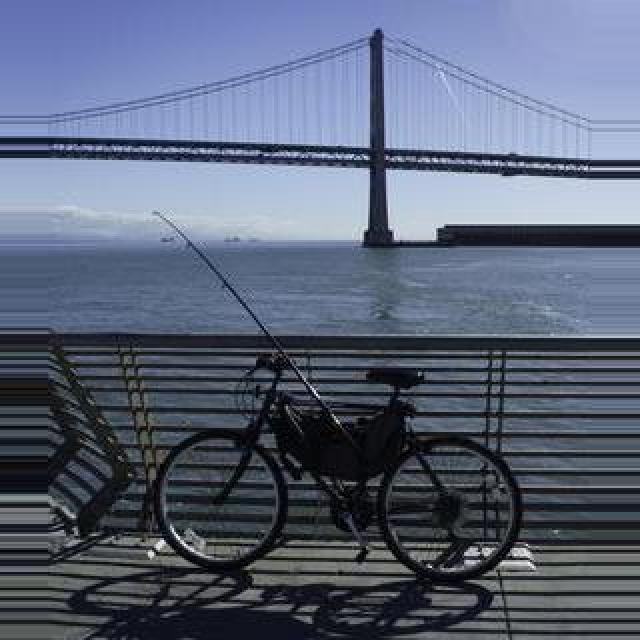Person: (153, 344, 529, 578)
